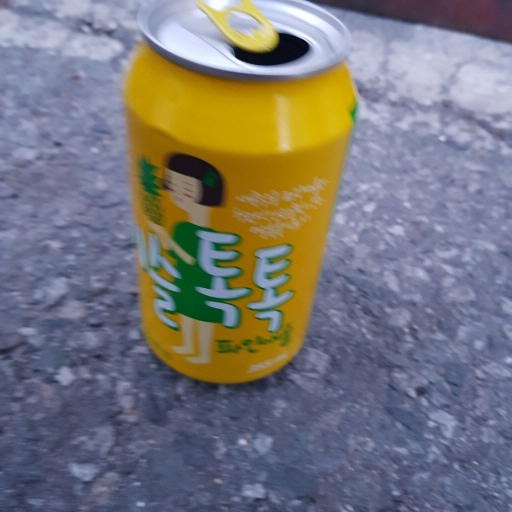Metal_0: (118, 1, 363, 389)
